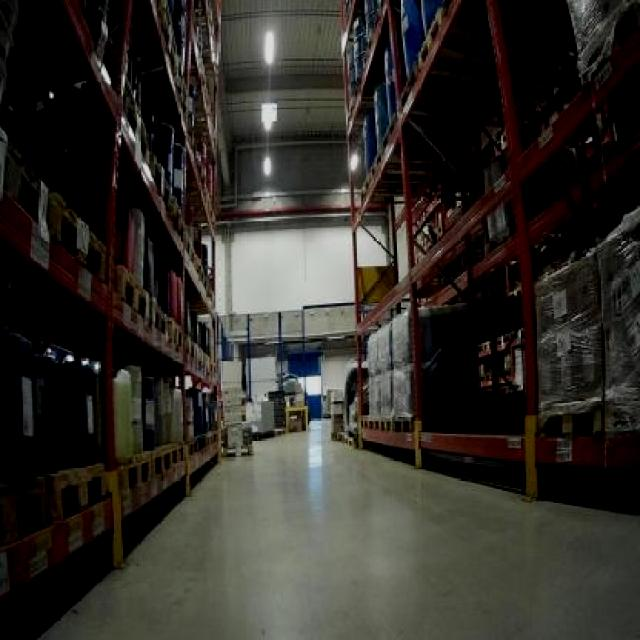floor: (0, 418, 637, 637)
pallets: (342, 0, 637, 494)
